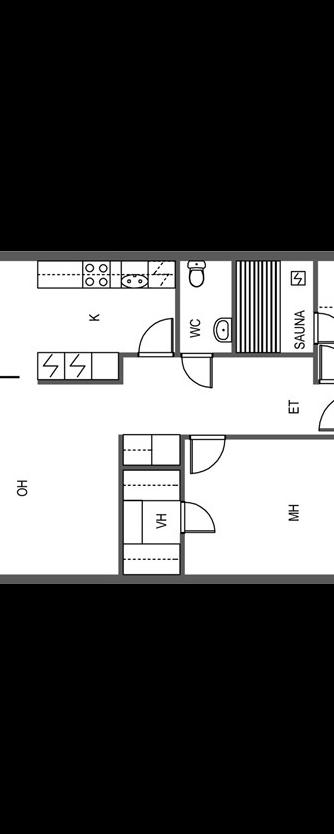door: (186, 430, 229, 475), (137, 315, 179, 359), (174, 500, 221, 538), (178, 348, 217, 392), (310, 309, 334, 345), (317, 388, 334, 434), (318, 340, 334, 385)
